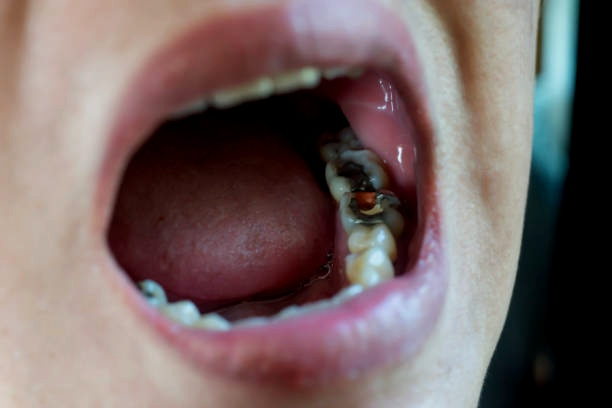Caries: (341, 152, 398, 227)
